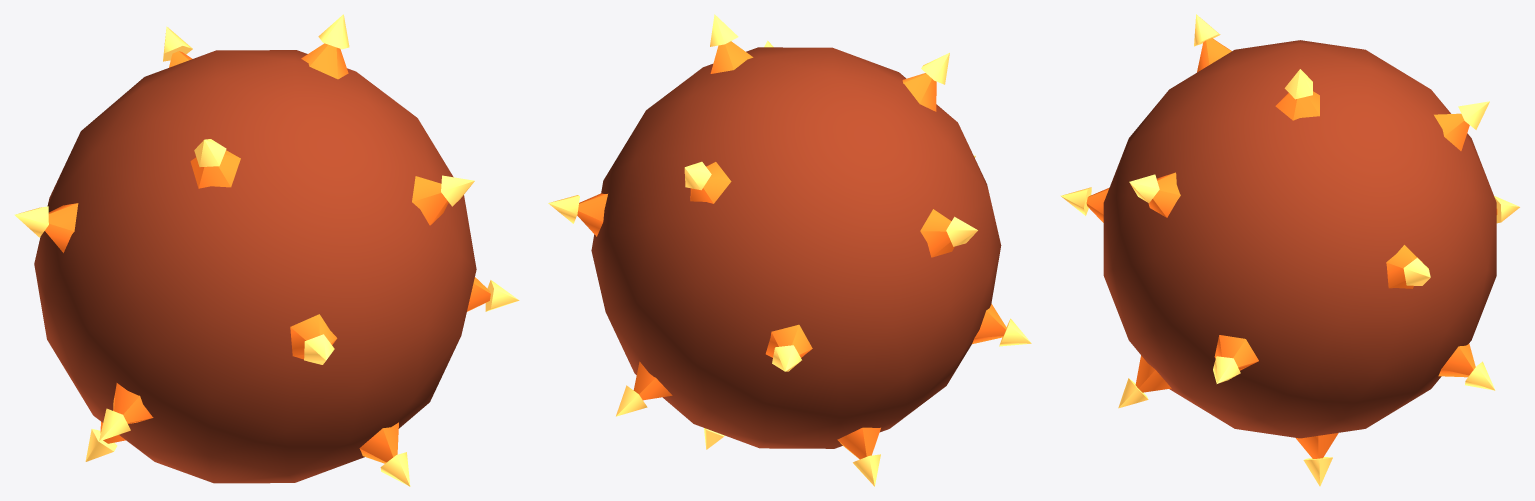
The model's file is BO_SM_EnemyPart_FireRatBall_v001.glb.
3 renders of one model, left to right at view 1: azimuth 30°, elevation 25°; view 2: azimuth 150°, elevation 25°; view 3: azimuth 270°, elevation 25°, orthographic. The views are drawn at different scales.
Visible parts, largest first — view 1: body_000, nested_003, nested_007, nested_009, nested_013, nested_001, nested_023, nested_019, nested_004, nested_014, nested_008, nested_002 (+5 smaller); view 2: body_000, nested_009, nested_015, nested_005, nested_025, nested_003, nested_011, nested_001, nested_021, nested_019, nested_006, nested_016 (+4 smaller); view 3: body_000, nested_017, nested_007, nested_001, nested_011, nested_021, nested_005, nested_023, nested_027, nested_003, nested_012, nested_002 (+4 smaller).
Boxes of the visible parts, <box> form: body_000: <box>34,50,476,483</box>; nested_003: <box>190,150,240,188</box>; nested_007: <box>412,176,448,225</box>; nested_009: <box>45,203,78,252</box>; nested_013: <box>290,314,337,359</box>; nested_001: <box>301,43,348,79</box>; nested_023: <box>359,422,398,463</box>; nested_019: <box>113,383,153,423</box>; nested_004: <box>194,139,226,166</box>; nested_014: <box>304,334,334,364</box>; nested_008: <box>441,175,474,206</box>; nested_002: <box>318,14,349,49</box>; body_000: <box>591,47,1001,448</box>; nested_009: <box>920,209,954,257</box>; nested_015: <box>765,324,812,357</box>; nested_005: <box>690,162,731,203</box>; nested_025: <box>837,427,880,459</box>; nested_003: <box>902,73,936,111</box>; nested_011: <box>577,193,607,236</box>; nested_001: <box>710,41,753,73</box>; nested_021: <box>633,361,672,400</box>; nested_019: <box>972,303,1006,344</box>; nested_006: <box>684,161,711,190</box>; nested_016: <box>772,345,801,371</box>; body_000: <box>1103,40,1496,438</box>; nested_017: <box>1214,335,1258,370</box>; nested_007: <box>1148,172,1180,217</box>; nested_001: <box>1275,91,1319,120</box>; nested_011: <box>1386,245,1422,288</box>; nested_021: <box>1438,343,1475,377</box>; nested_005: <box>1434,113,1469,150</box>; nested_023: <box>1135,355,1171,392</box>; nested_027: <box>1296,433,1338,458</box>; nested_003: <box>1197,38,1231,72</box>; nested_012: <box>1403,258,1430,285</box>; nested_002: <box>1284,69,1312,99</box>.
Size of the model in its own units: 0.6386 by 0.6455 by 0.6425.
